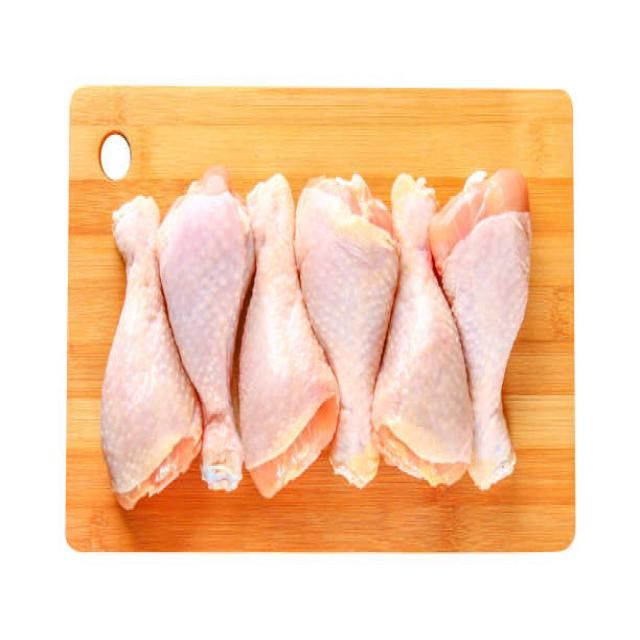Chicken Thigh: (234, 169, 334, 482), (93, 197, 186, 502), (463, 177, 539, 488), (386, 172, 461, 482), (174, 180, 248, 484), (324, 167, 388, 483)
